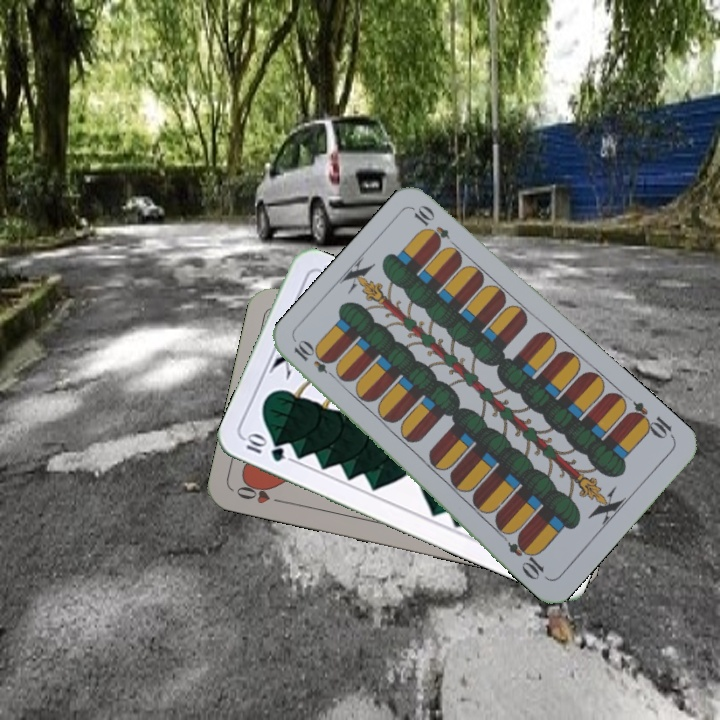E10: (623, 397, 677, 442), (289, 337, 341, 383)
G10: (241, 430, 288, 465)
HO: (232, 478, 289, 507)
